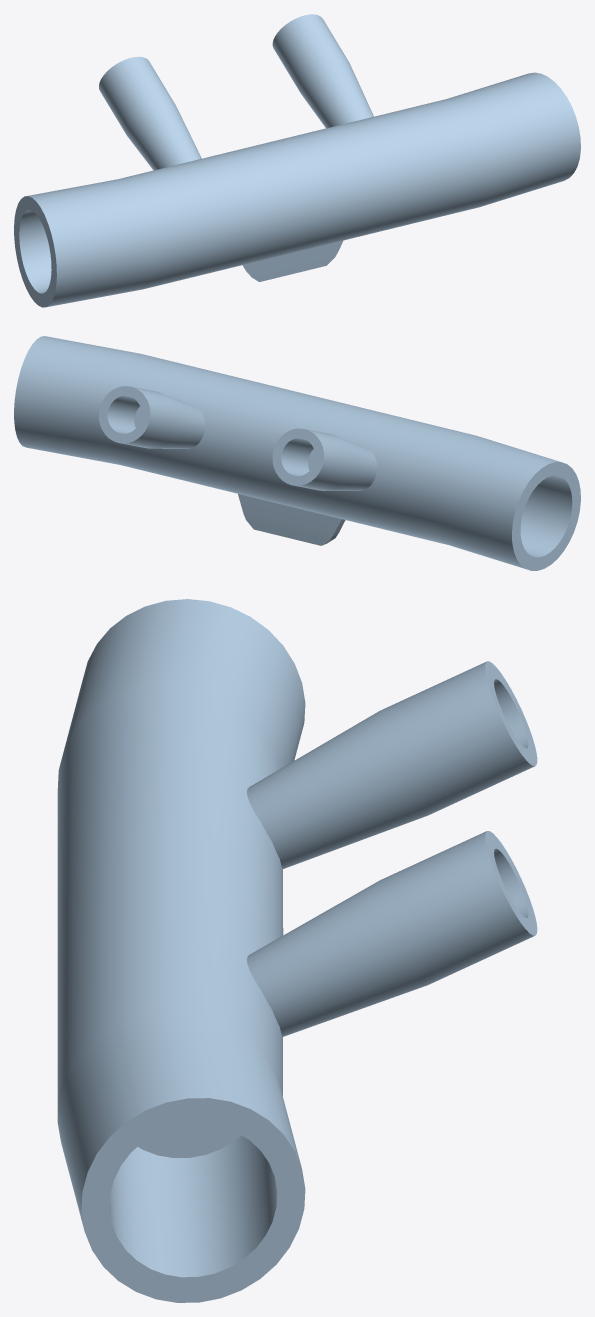
The model's file is nasalcannula.fbx.
3 views of the same model, one above another, from view 1: azimuth 30°, elevation 25°; view 2: azimuth 150°, elevation 25°; view 3: azimuth 270°, elevation 25° (orthographic). The views are drawn at different scales.
Visible parts, largest first — view 1: Cylinder; view 2: Cylinder; view 3: Cylinder.
Boxes of the visible parts, box(x1,y1,x2,y2) form: Cylinder: box(14, 14, 580, 307); Cylinder: box(14, 336, 580, 570); Cylinder: box(57, 599, 537, 1302).
Bounding box in the file's own units: 113 × 37.65 × 44.86.
